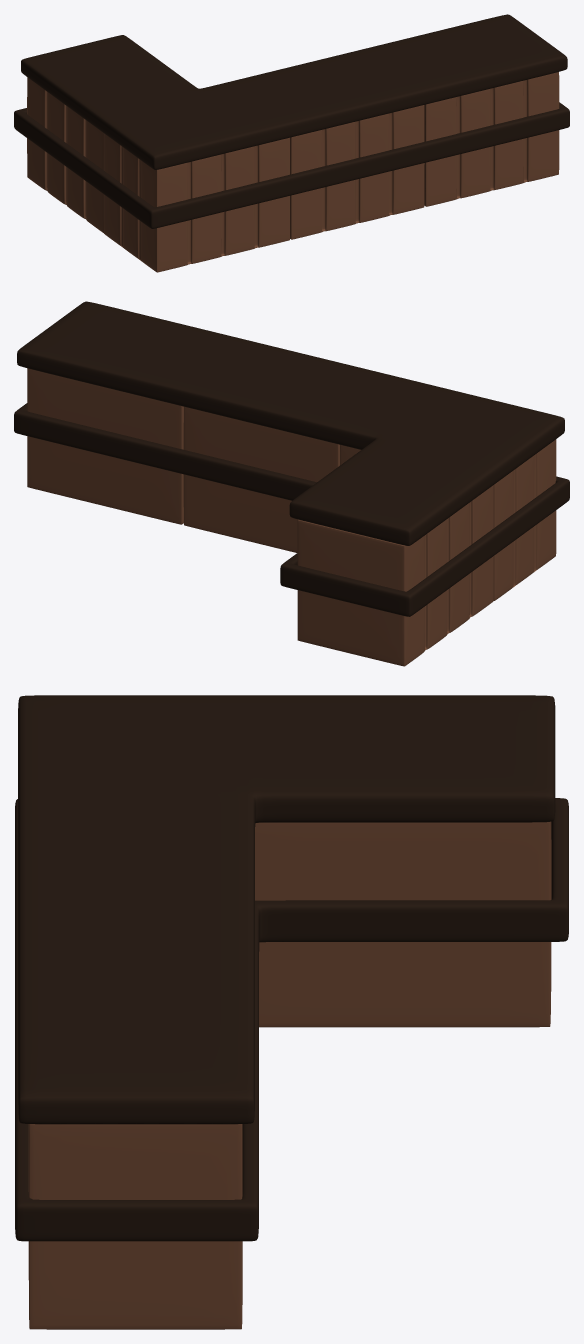
File: bar.obj
3 renders of one model, top to bottom at view 1: azimuth 30°, elevation 25°; view 2: azimuth 150°, elevation 25°; view 3: azimuth 270°, elevation 25°, orthographic. The views are drawn at different scales.
Visible parts, largest first — view 1: bar; view 2: bar; view 3: bar.
Boxes of the visible parts, box(x1,y1,x2,y2) form: bar: box(14, 14, 569, 272); bar: box(14, 301, 569, 666); bar: box(15, 695, 568, 1329).
Size of the model in its own units: 3.2 by 0.8738 by 1.83.
